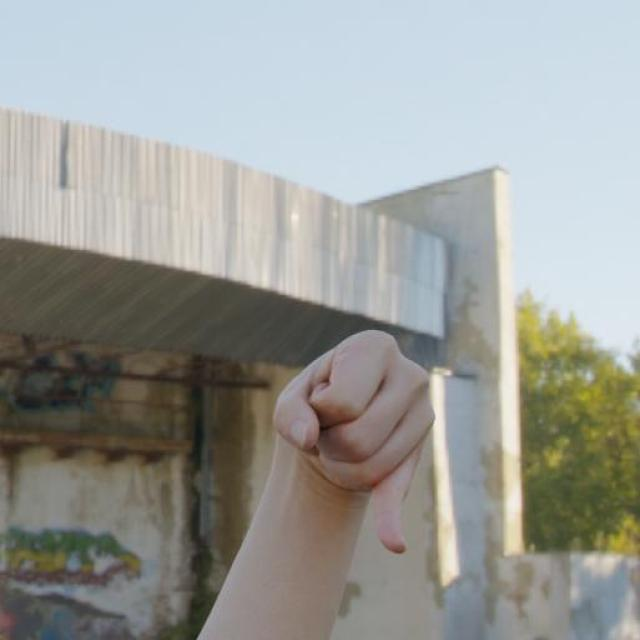J: (273, 327, 437, 559)
